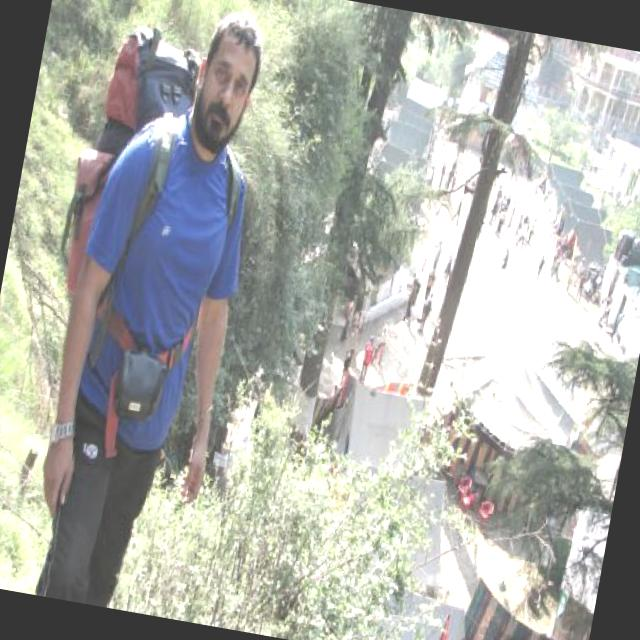Person: (24, 0, 294, 576)
